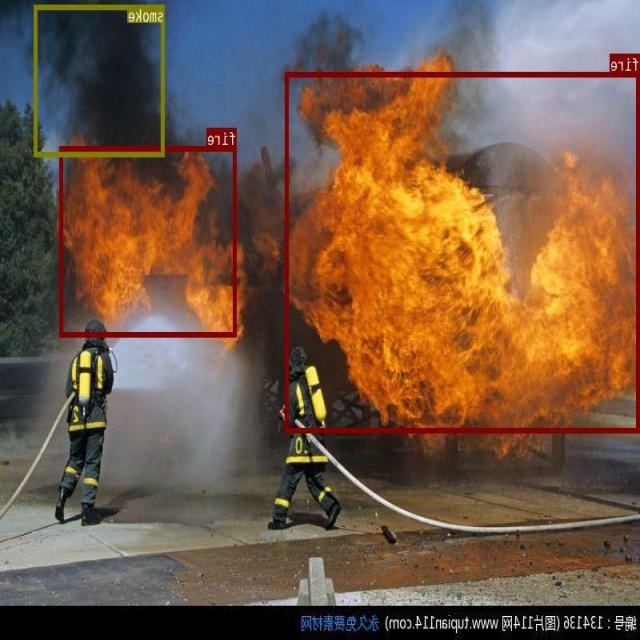fire: (286, 71, 640, 431), (61, 146, 238, 336)
smoke: (35, 4, 165, 156)
